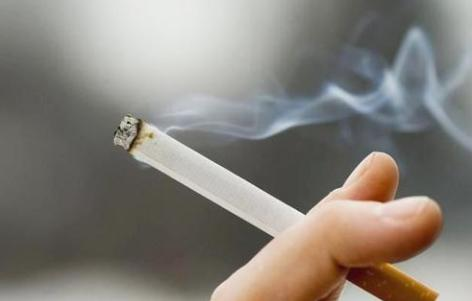smoke: (114, 115, 441, 301)
